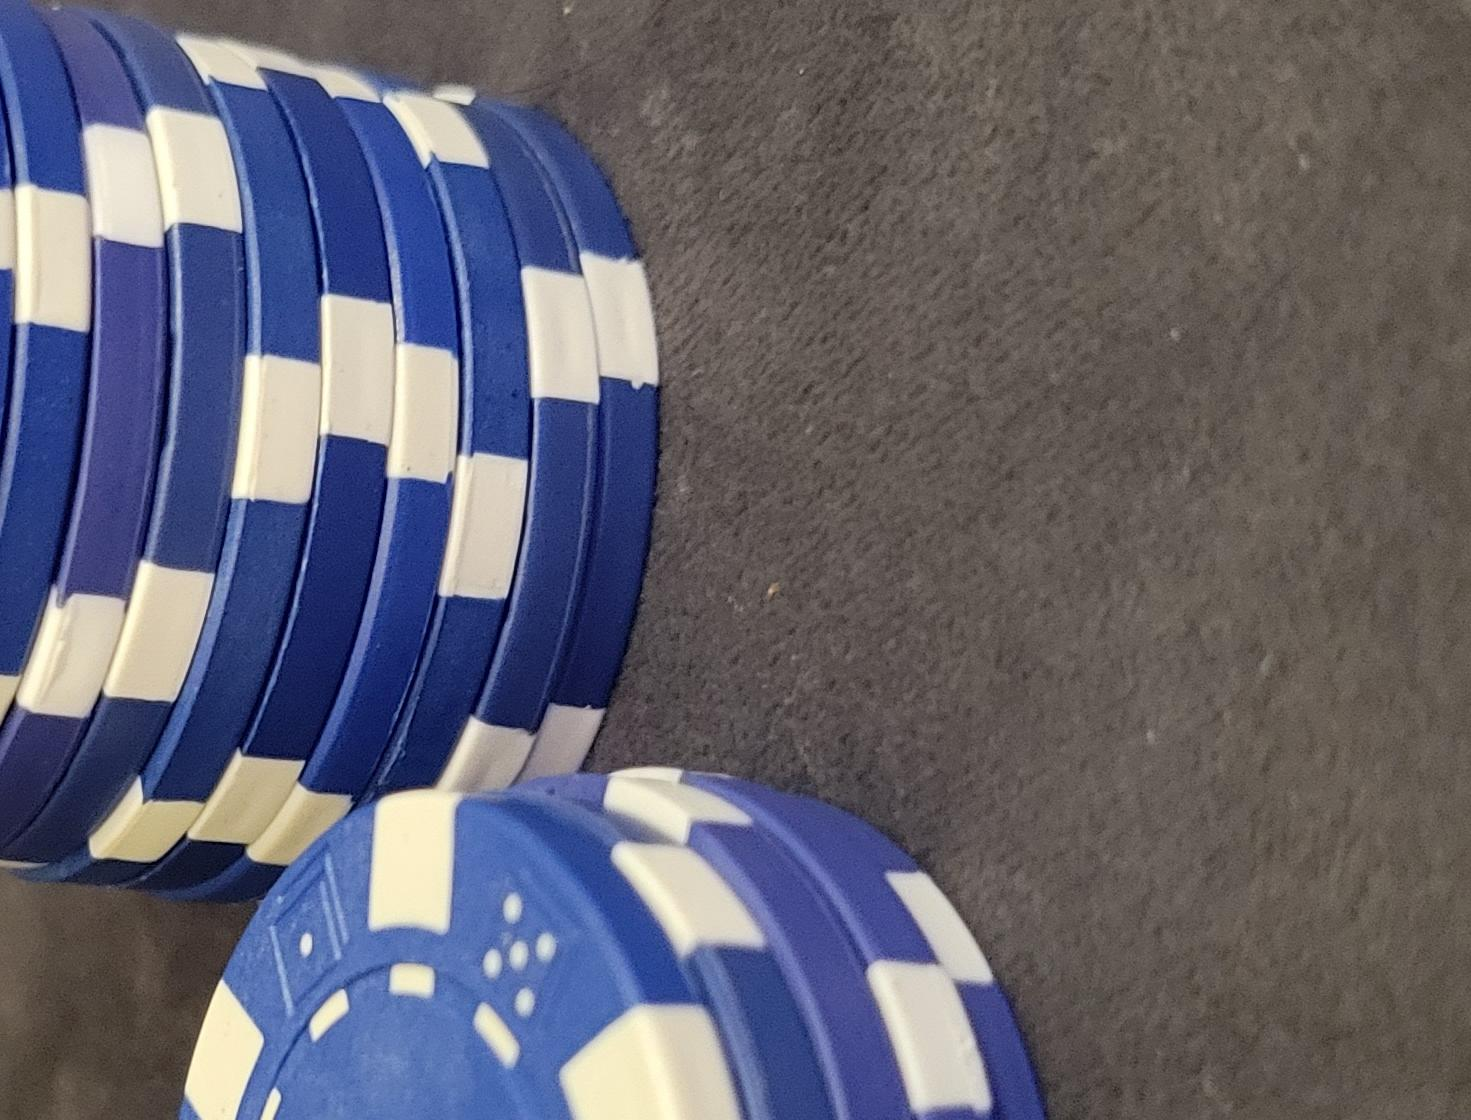Chip: (1, 251, 660, 1120)
